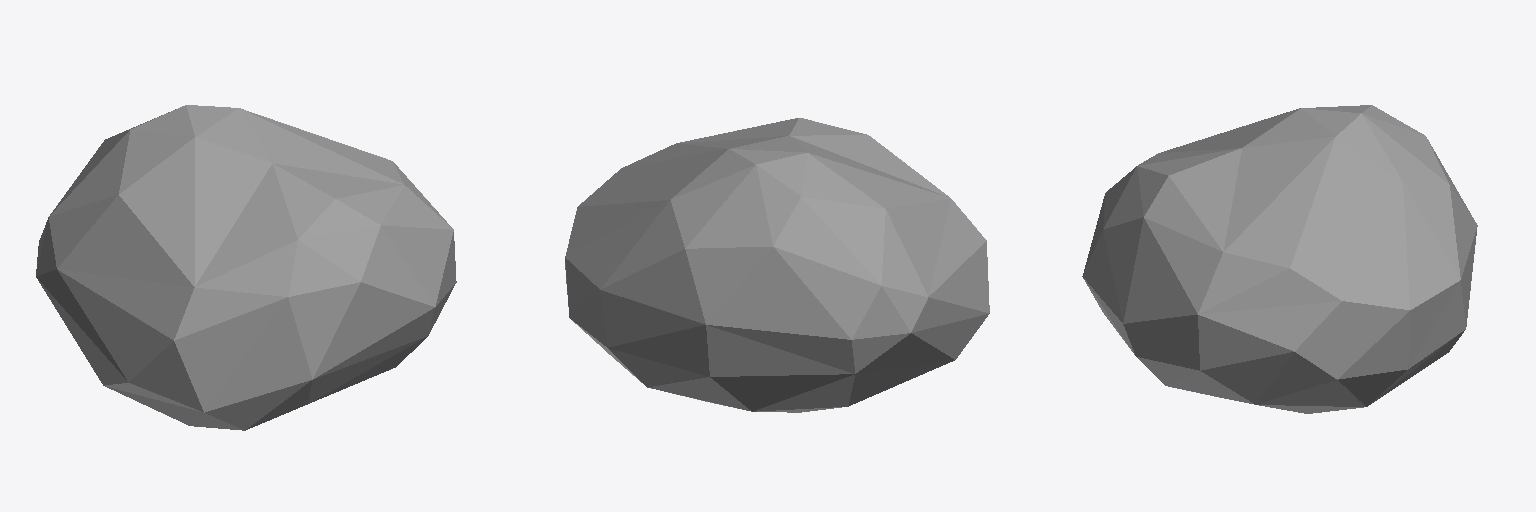
The model's file is stone.obj.
The picture shows the model from 3 angles: view 1: azimuth 30°, elevation 25°; view 2: azimuth 150°, elevation 25°; view 3: azimuth 270°, elevation 25°; orthographic projection.
Visible parts, largest first — view 1: Sphere; view 2: Sphere; view 3: Sphere.
Part boxes in pixels (x1,y1,x2,y2): Sphere: (36,105,456,430); Sphere: (565,118,989,412); Sphere: (1082,105,1477,413).
Size of the model in its own units: 3.88 by 2.62 by 3.65.